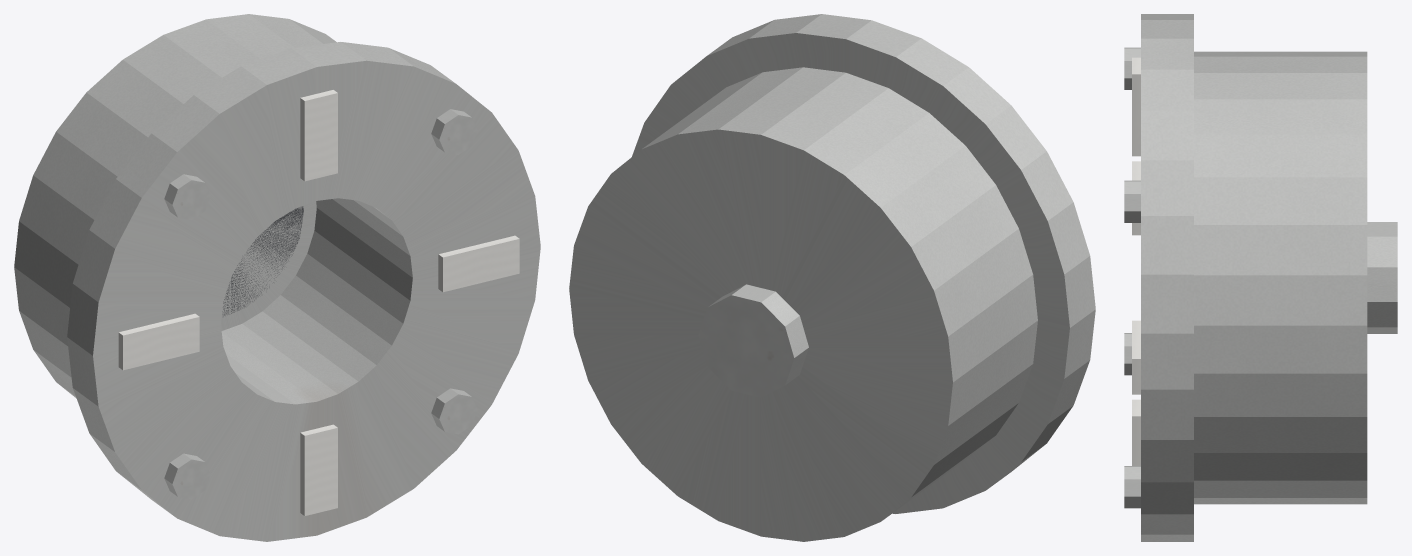
Rendered from bussocket_cross.gltf.
3 views of the same model, side by side, from view 1: azimuth 30°, elevation 25°; view 2: azimuth 150°, elevation 25°; view 3: azimuth 270°, elevation 25° (orthographic). The views are drawn at different scales.
Parts seen in each view (by area): view 1: jx_bussocket_cross; view 2: jx_bussocket_cross; view 3: jx_bussocket_cross.
Boxes of the visible parts, x1,y1,x2,y2 form: jx_bussocket_cross: [14, 14, 540, 541]; jx_bussocket_cross: [569, 14, 1095, 541]; jx_bussocket_cross: [1124, 14, 1397, 541].
Size of the model in its own units: 0.7 by 0.7 by 0.362.
Materials: 3 (3 with a texture image).
